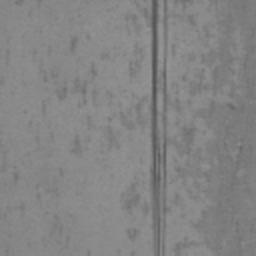Scratches: (150, 0, 170, 256)
